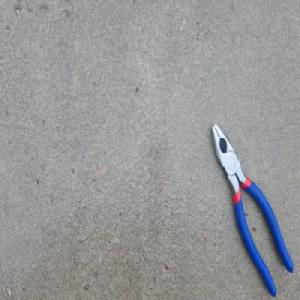Pliers: (208, 116, 294, 295)
